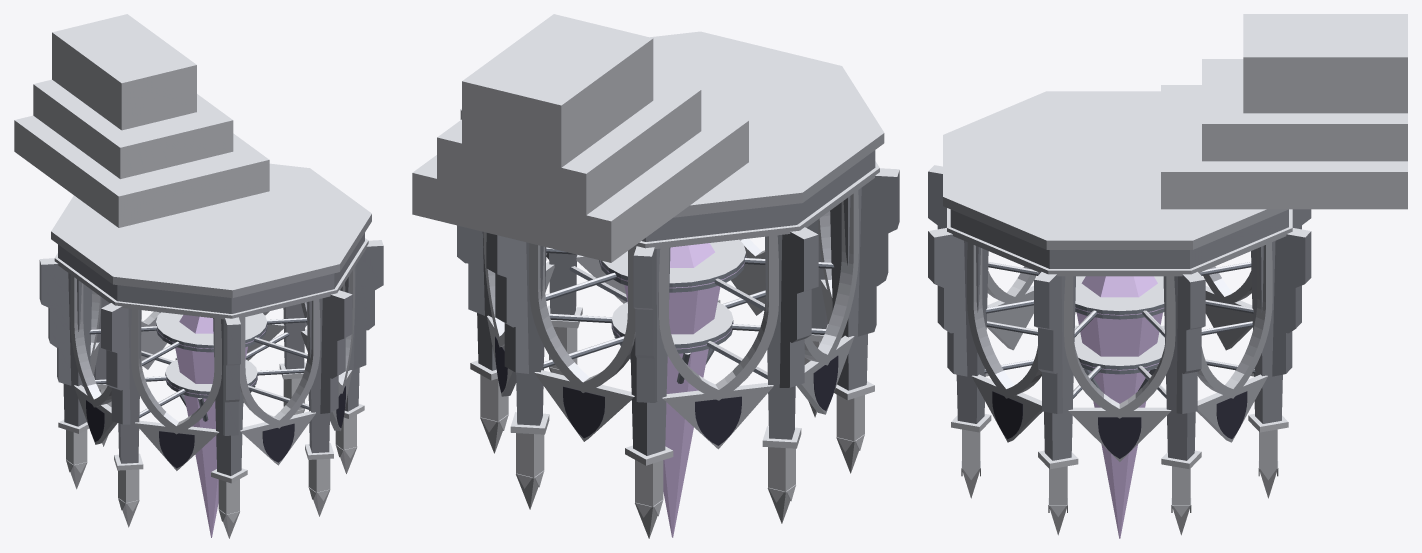
The model's file is PR_Motor_Antigravidade.fbx.
3 views of the same model, side by side, from view 1: azimuth 30°, elevation 25°; view 2: azimuth 150°, elevation 25°; view 3: azimuth 270°, elevation 25° (orthographic). The views are drawn at different scales.
Parts seen in each view (by area): view 1: PR_Motor_Antigravidade; view 2: PR_Motor_Antigravidade; view 3: PR_Motor_Antigravidade.
Boxes of the visible parts, <box> form: PR_Motor_Antigravidade: <box>14,14,383,538</box>; PR_Motor_Antigravidade: <box>412,14,899,538</box>; PR_Motor_Antigravidade: <box>928,14,1407,538</box>.
Bounding box in the file's own units: 37.26 × 53.96 × 46.63.
